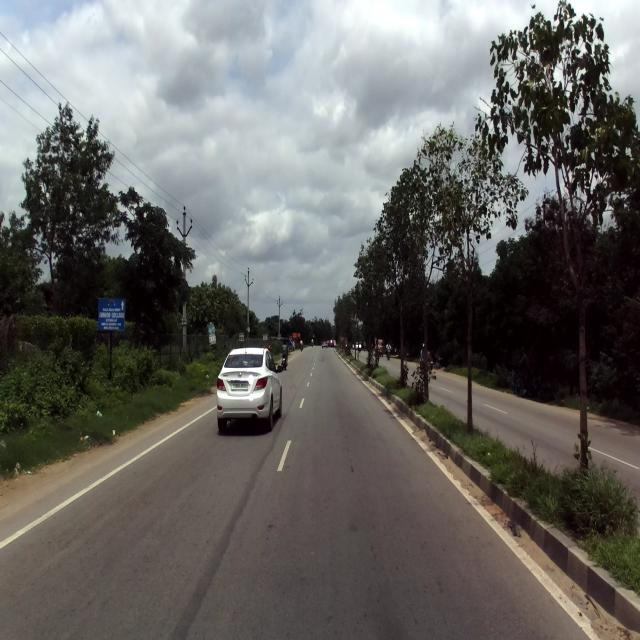Car_Hyundai: (216, 342, 284, 432)
